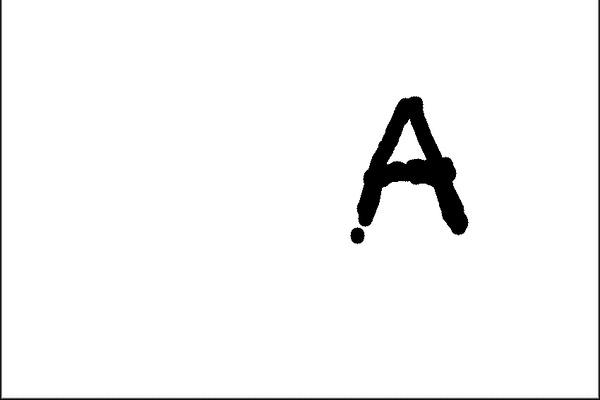A: (337, 86, 479, 240)
